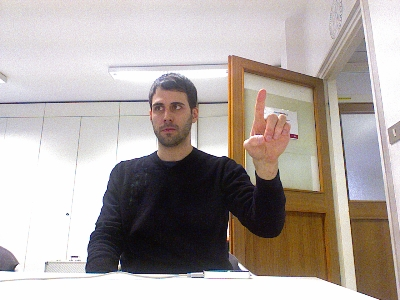食指: (241, 87, 291, 162)
